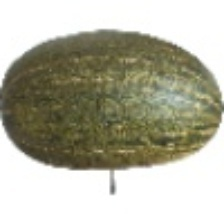honeydew: (41, 23, 220, 202)
